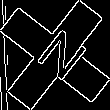N_SW: (23, 23, 87, 87)
